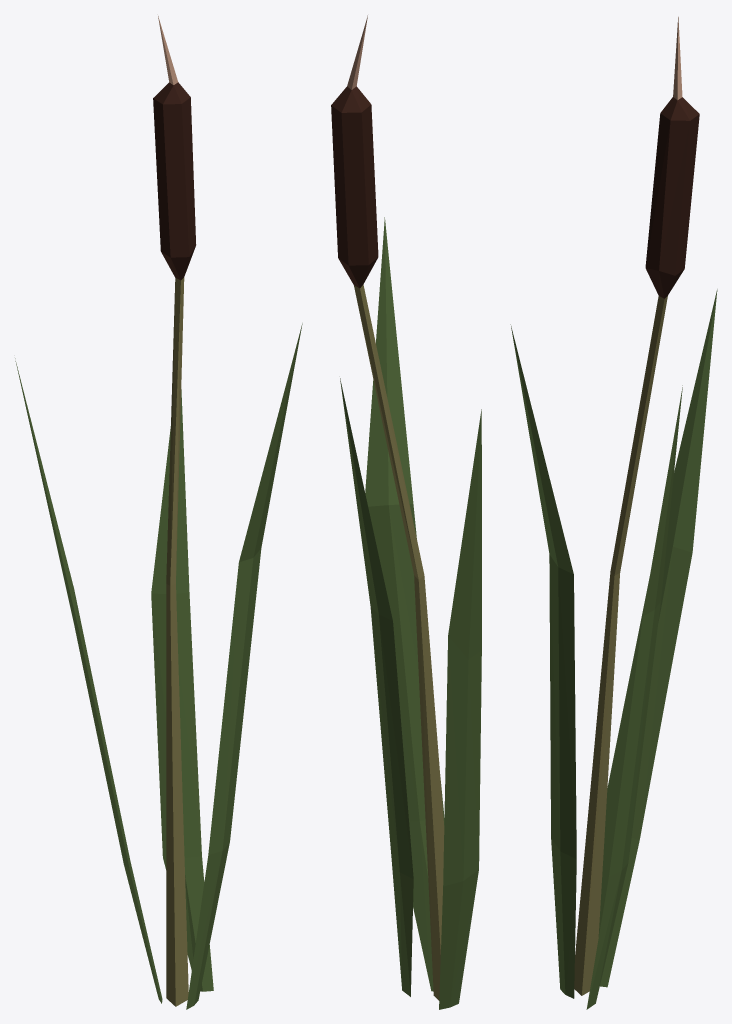
Rendered from Reed_1 Asia.fbx.
3 renders of one model, left to right at view 1: azimuth 30°, elevation 25°; view 2: azimuth 150°, elevation 25°; view 3: azimuth 270°, elevation 25°, orthographic. The views are drawn at different scales.
Parts seen in each view (by area): view 1: Reed_1; view 2: Reed_1; view 3: Reed_1.
Part boxes in pixels (x1,y1,x2,y2): Reed_1: (15, 16, 302, 1009); Reed_1: (331, 15, 481, 1009); Reed_1: (510, 16, 717, 1009).
Bounding box in the file's own units: 0.3273 × 1.56 × 0.2962.
